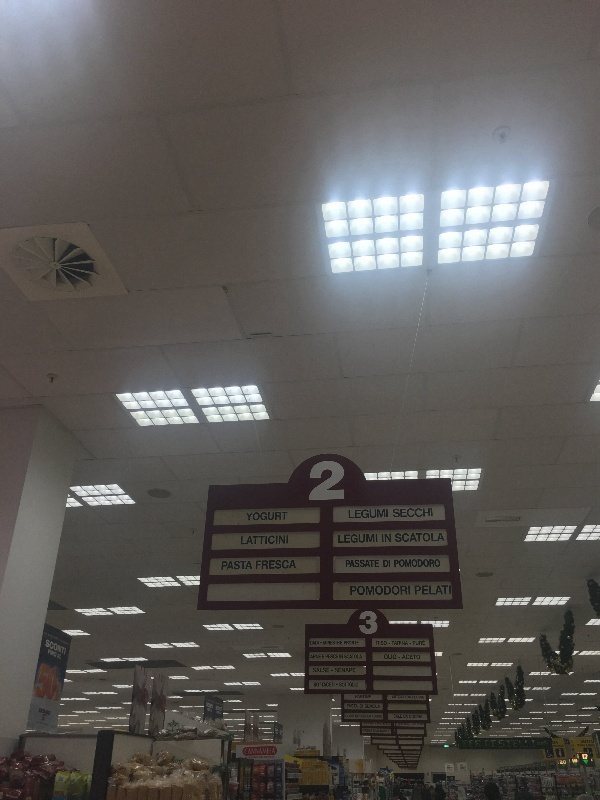text: (321, 459, 336, 501), (49, 663, 64, 703), (311, 459, 320, 501), (337, 459, 345, 501), (41, 663, 48, 703), (49, 639, 64, 656), (49, 631, 64, 647), (369, 610, 378, 634), (360, 610, 368, 634), (273, 535, 289, 545), (257, 511, 272, 521), (273, 511, 288, 521), (241, 535, 256, 545), (257, 535, 272, 545), (225, 561, 240, 571), (353, 509, 368, 519), (369, 509, 384, 519), (401, 533, 416, 543), (417, 533, 432, 543), (353, 586, 368, 596), (369, 586, 384, 596), (385, 586, 400, 596), (417, 509, 433, 518), (257, 560, 272, 569), (273, 560, 288, 569), (401, 509, 416, 518), (353, 534, 368, 543), (401, 559, 416, 568), (417, 559, 432, 568), (417, 586, 432, 595), (433, 586, 448, 595), (49, 649, 64, 658), (338, 534, 352, 543), (241, 561, 253, 571), (433, 533, 445, 543), (353, 560, 368, 568), (465, 740, 480, 748), (497, 740, 512, 748), (513, 740, 528, 748), (215, 702, 224, 715), (337, 667, 352, 674), (257, 748, 272, 755), (401, 586, 411, 596), (247, 511, 256, 521), (485, 740, 496, 748), (322, 654, 336, 660), (321, 682, 335, 688), (369, 534, 378, 543), (369, 560, 379, 568), (65, 631, 70, 647), (339, 682, 352, 688), (403, 654, 416, 660), (245, 748, 256, 755), (289, 560, 297, 569), (433, 559, 441, 568), (385, 654, 397, 660), (309, 654, 320, 660), (403, 714, 416, 719), (40, 708, 48, 716), (529, 740, 537, 748), (393, 509, 400, 518), (385, 534, 392, 543), (321, 667, 330, 674), (324, 641, 336, 646), (353, 654, 363, 660), (356, 695, 368, 700), (369, 704, 381, 709), (353, 714, 365, 719), (257, 756, 272, 760), (580, 740, 592, 745), (209, 702, 214, 713), (326, 654, 336, 659), (582, 755, 592, 760), (313, 667, 320, 674), (346, 560, 352, 568), (385, 560, 391, 568), (340, 655, 352, 659), (344, 654, 352, 660), (372, 715, 384, 719), (45, 631, 48, 647), (395, 559, 400, 568), (417, 641, 426, 646), (577, 745, 592, 748), (373, 729, 384, 733), (396, 533, 400, 543), (310, 641, 320, 645), (344, 641, 352, 646), (392, 641, 400, 646), (401, 641, 409, 646), (360, 704, 368, 709), (417, 695, 425, 700), (246, 756, 256, 760), (314, 682, 320, 688), (353, 682, 359, 688), (209, 698, 215, 704), (377, 641, 384, 646), (59, 653, 64, 660), (43, 714, 48, 721), (65, 639, 67, 656), (460, 764, 464, 772), (552, 741, 560, 745), (349, 509, 352, 519), (385, 509, 388, 519), (337, 641, 343, 646), (353, 641, 359, 646), (353, 704, 359, 709), (346, 714, 352, 719), (394, 714, 400, 719), (561, 760, 567, 765), (393, 695, 400, 699), (409, 715, 416, 719), (449, 765, 453, 772), (449, 586, 452, 595), (407, 696, 416, 699), (419, 724, 432, 726), (347, 704, 352, 709), (417, 654, 421, 660), (417, 715, 423, 719), (389, 643, 400, 645), (353, 667, 356, 674), (273, 748, 276, 755), (553, 745, 560, 748), (222, 561, 224, 571), (363, 729, 368, 733), (401, 695, 406, 699), (412, 695, 416, 700), (401, 724, 411, 726), (382, 534, 384, 543), (369, 723, 375, 726), (47, 639, 48, 656), (376, 723, 384, 725), (369, 729, 373, 733), (385, 729, 389, 733), (49, 708, 51, 716), (465, 764, 467, 772), (413, 641, 416, 646), (369, 695, 372, 700), (365, 704, 368, 709), (363, 723, 368, 726), (573, 759, 576, 764), (377, 723, 384, 725), (410, 643, 416, 645), (369, 715, 372, 719), (412, 723, 416, 726), (206, 698, 208, 704), (207, 702, 208, 713), (351, 586, 352, 596), (337, 654, 339, 659), (385, 641, 387, 646), (385, 723, 390, 725), (415, 586, 416, 595), (561, 745, 564, 748), (383, 560, 384, 568), (366, 715, 368, 719), (273, 756, 275, 760), (463, 740, 464, 748), (481, 740, 482, 748), (335, 667, 336, 674), (321, 654, 322, 660), (331, 670, 336, 671), (401, 714, 402, 719), (593, 740, 594, 745), (577, 759, 578, 764), (398, 724, 400, 726), (593, 745, 594, 748), (399, 657, 400, 659)
